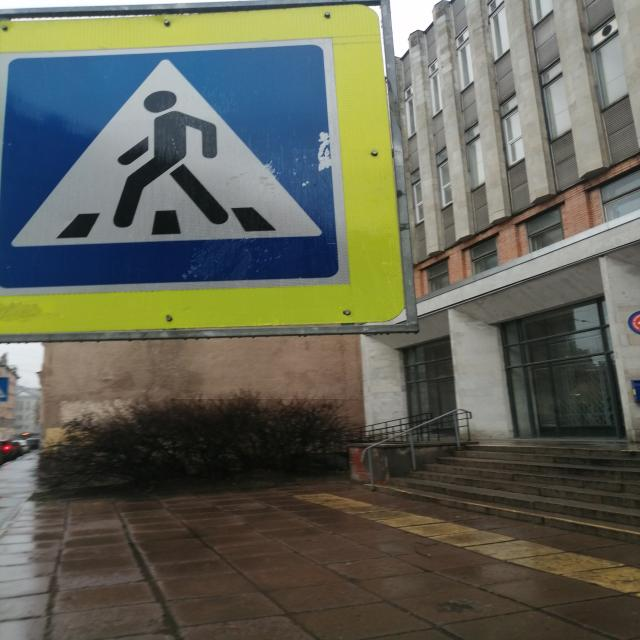road sign: (0, 5, 405, 336)
